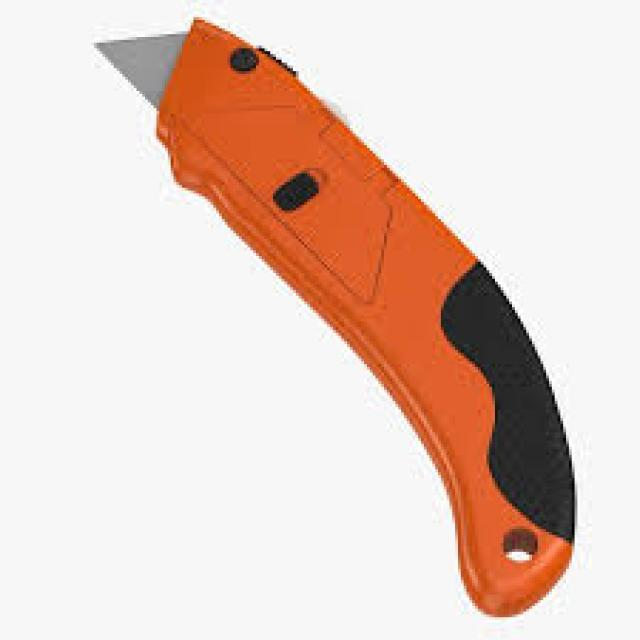cutter: (85, 12, 584, 619)
